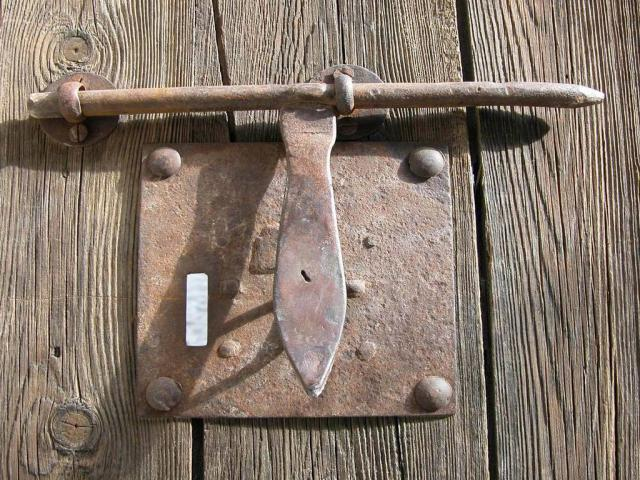Door-handle: (28, 61, 606, 400)
